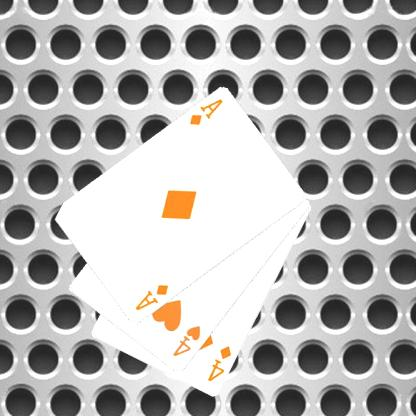4D: (205, 343, 233, 383)
4H: (170, 323, 202, 358)
AD: (186, 96, 224, 127), (132, 282, 170, 312)
